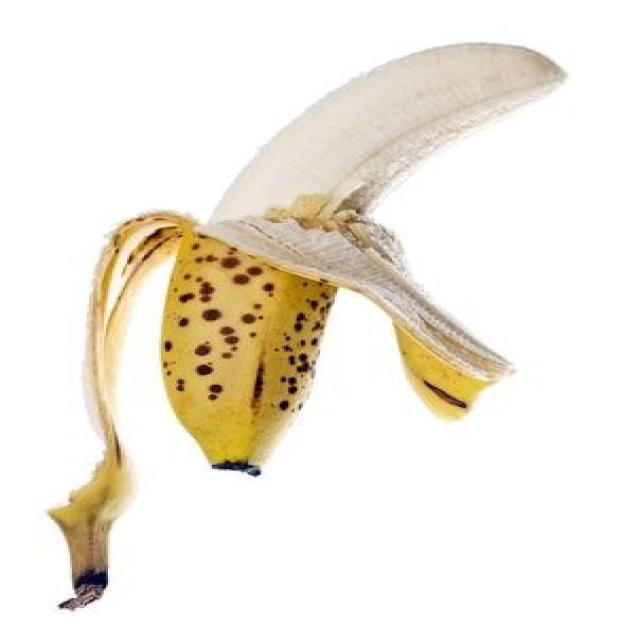banana: (51, 45, 563, 608), (162, 228, 334, 474)
